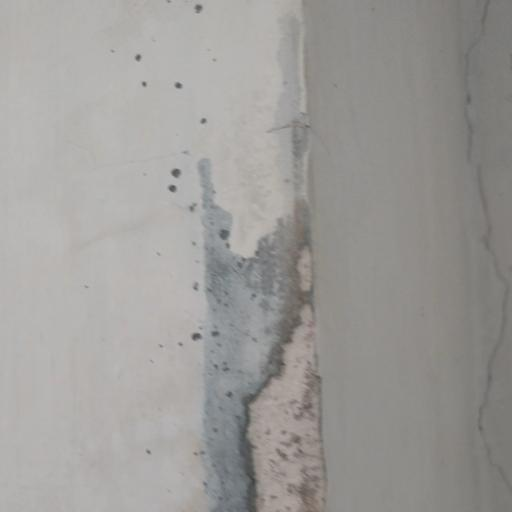peeling: (181, 130, 359, 512)
